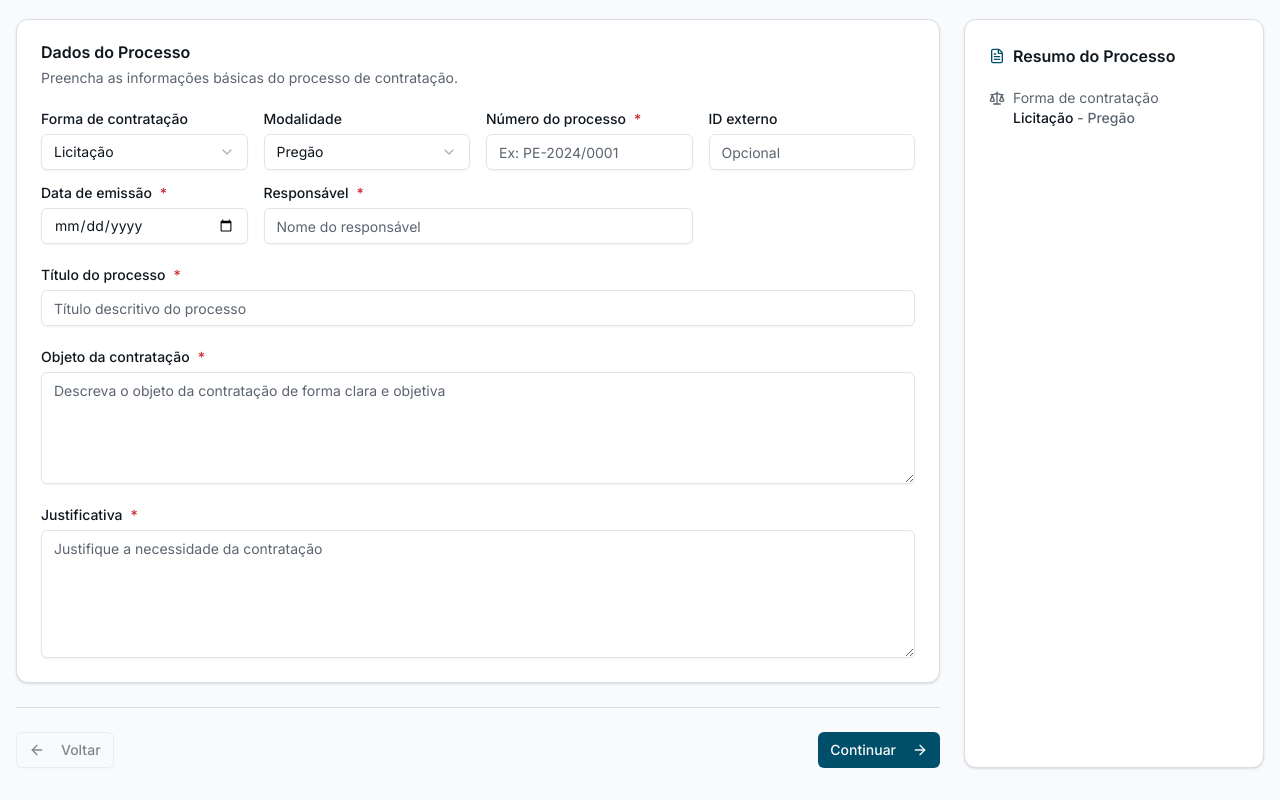
Test: ProcessCreatePage › shows required field validation before advancing from the data step
(page scrolled)
Click the button "Continuar" at (879, 750), box [818, 732, 940, 768]
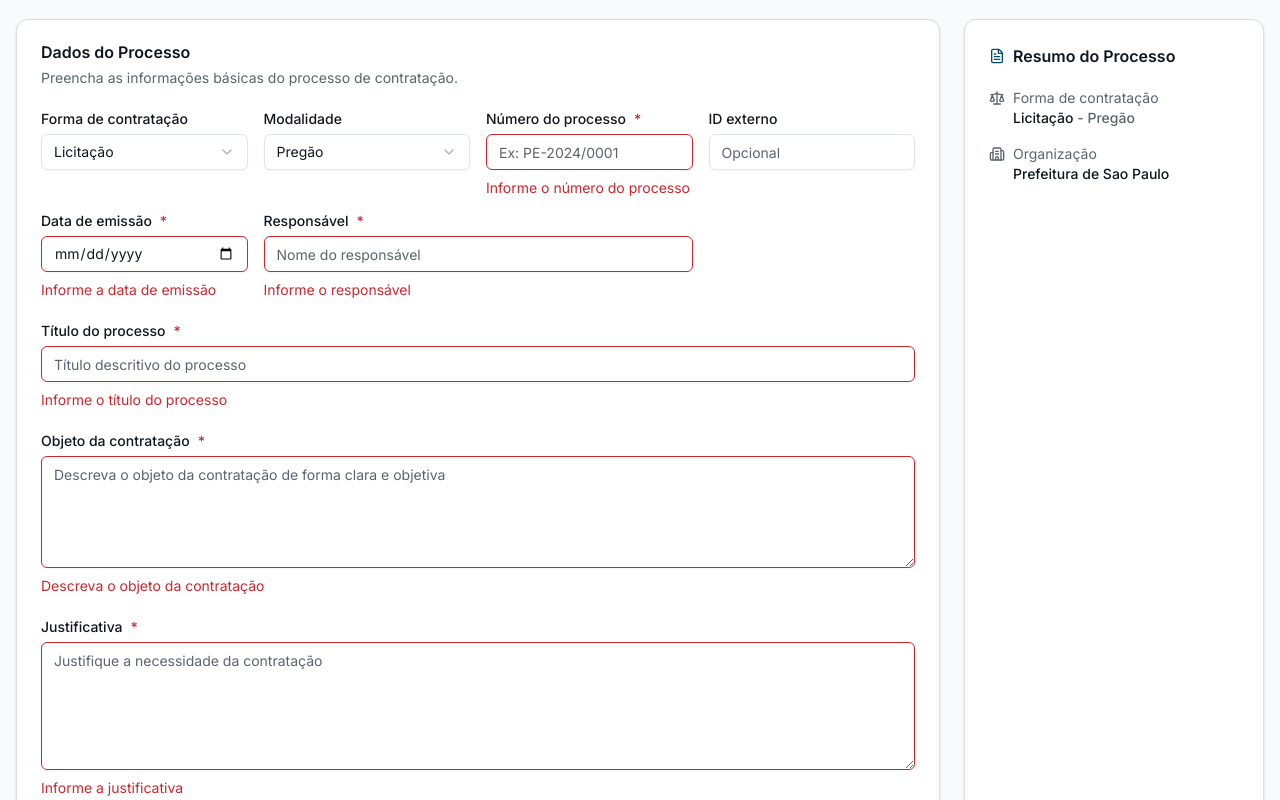
Now the text "Informe o número do processo" is shown, box [486, 178, 692, 198]
Now the text "Informe a data de emissão" is shown, box [41, 281, 216, 298]
Now the text "Informe o responsável" is shown, box [264, 281, 411, 298]
